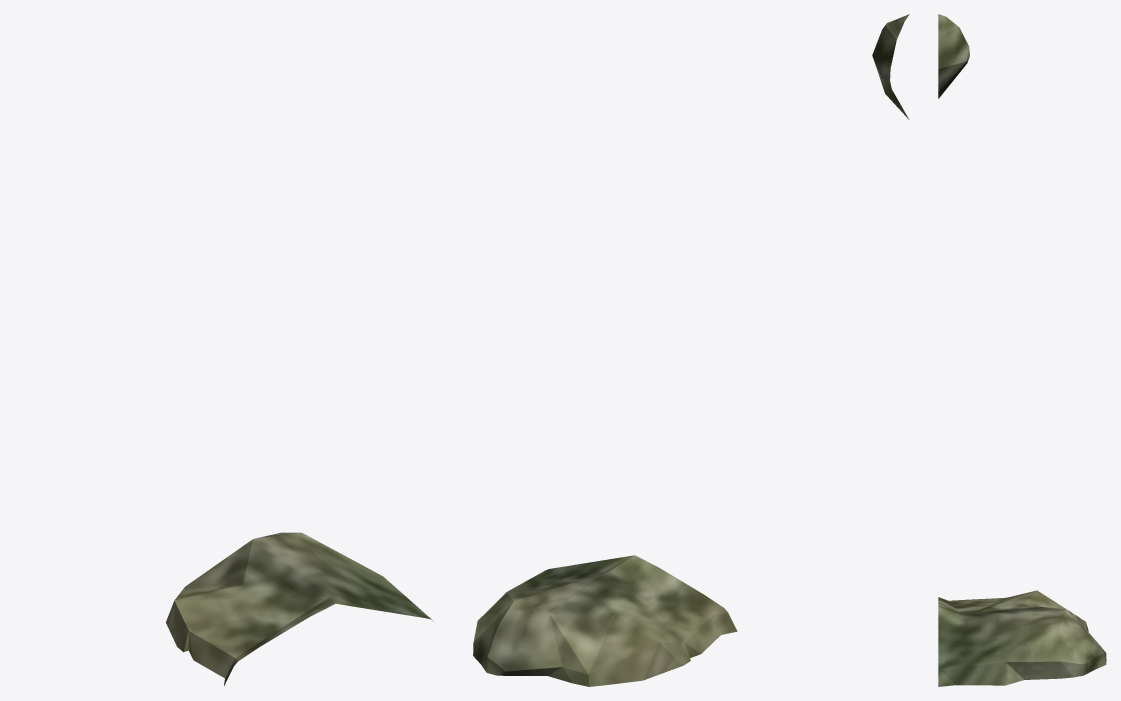
3 renders of one model, left to right at view 1: azimuth 30°, elevation 25°; view 2: azimuth 150°, elevation 25°; view 3: azimuth 270°, elevation 25°, orthographic. The views are drawn at different scales.
Bounding box in the file's own units: 1.89 × 3.18 × 0.9211.
1 material, 1 textured.
